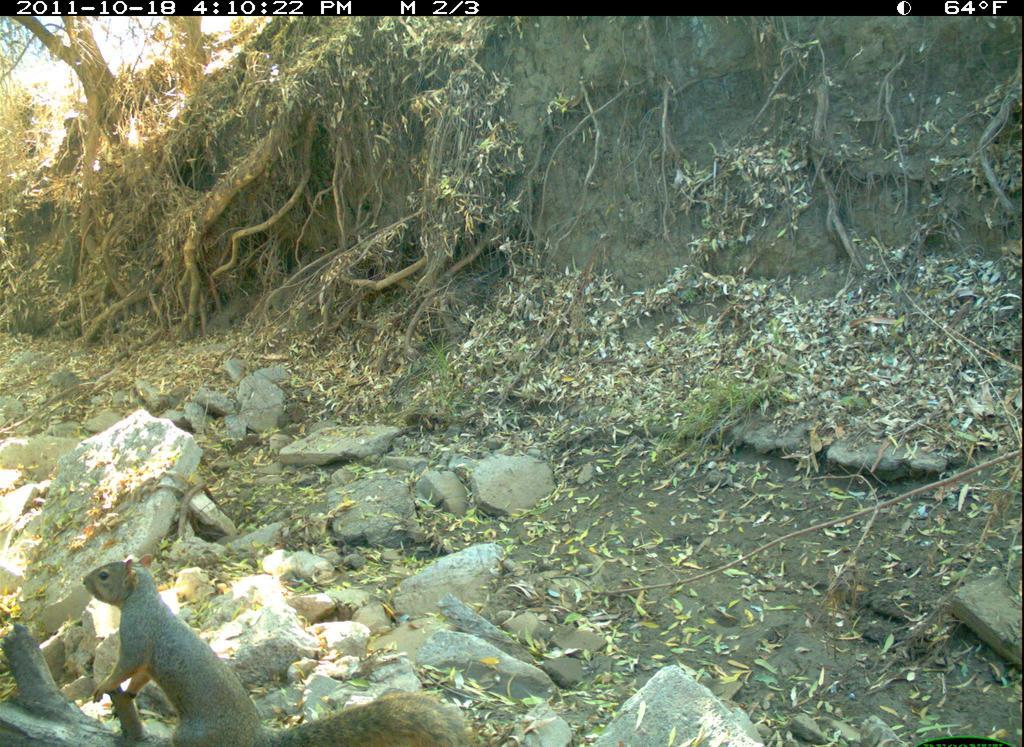squirrel: (63, 547, 481, 745)
